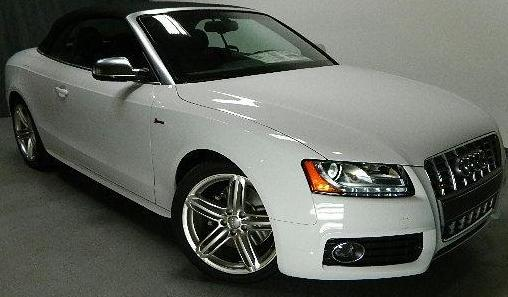front_view: (283, 125, 505, 280)
headlight: (302, 153, 421, 204)
